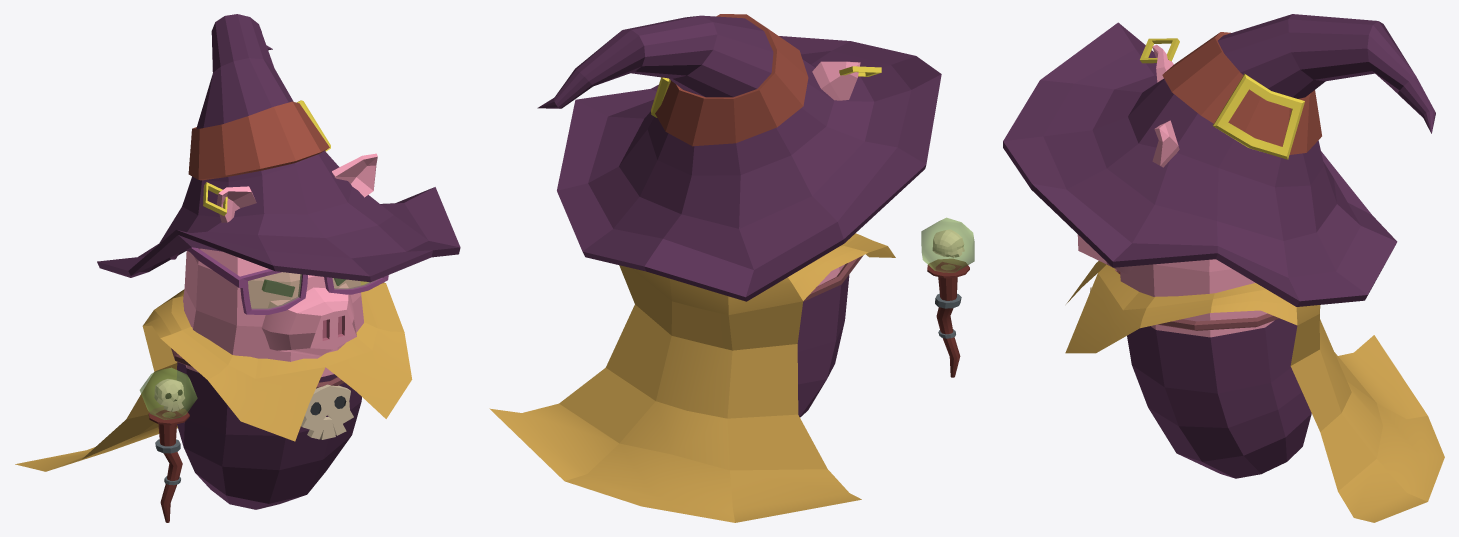
The model's file is korlineBean.fbx.
3 renders of one model, left to right at view 1: azimuth 30°, elevation 25°; view 2: azimuth 150°, elevation 25°; view 3: azimuth 270°, elevation 25°, orthographic. The views are drawn at different scales.
Visible parts, largest first — view 1: hat_mesh, body_mesh, polySurface5_mesh, polySurface10, skull_mesh (×2), frame_mesh, crystal_mesh, wood_mesh, lens_mesh, polySurface6, polySurface7; view 2: hat_mesh, polySurface5_mesh, body_mesh, crystal_mesh, wood_mesh, polySurface7, skull_mesh, necklace_mesh; view 3: hat_mesh, polySurface5_mesh, body_mesh, ring_mesh, necklace_mesh, polySurface6, earring_mesh.
Part boxes in pixels (x1=…): hat_mesh: x1=97, y1=14, x2=460, y2=282; body_mesh: x1=177, y1=248, x2=363, y2=509; polySurface5_mesh: x1=15, y1=281, x2=412, y2=471; polySurface10: x1=261, y1=283, x2=356, y2=355; skull_mesh (×2): x1=154, y1=379, x2=353, y2=439; frame_mesh: x1=170, y1=247, x2=388, y2=314; crystal_mesh: x1=139, y1=367, x2=197, y2=419; wood_mesh: x1=148, y1=406, x2=189, y2=522; lens_mesh: x1=248, y1=272, x2=373, y2=308; polySurface6: x1=332, y1=153, x2=377, y2=197; polySurface7: x1=216, y1=186, x2=256, y2=222; hat_mesh: x1=537, y1=14, x2=941, y2=301; polySurface5_mesh: x1=489, y1=233, x2=895, y2=522; body_mesh: x1=797, y1=264, x2=849, y2=417; crystal_mesh: x1=921, y1=217, x2=974, y2=272; wood_mesh: x1=927, y1=259, x2=969, y2=377; polySurface7: x1=812, y1=61, x2=860, y2=100; skull_mesh: x1=932, y1=229, x2=964, y2=257; necklace_mesh: x1=803, y1=255, x2=863, y2=301; hat_mesh: x1=1003, y1=14, x2=1435, y2=306; polySurface5_mesh: x1=1065, y1=261, x2=1444, y2=522; body_mesh: x1=1120, y1=259, x2=1311, y2=478; ring_mesh: x1=1212, y1=73, x2=1304, y2=159; necklace_mesh: x1=1115, y1=269, x2=1279, y2=330; polySurface6: x1=1152, y1=120, x2=1179, y2=167; earring_mesh: x1=1140, y1=38, x2=1179, y2=63.
Size of the model in its own units: 4.64 by 5.34 by 4.61.
3 materials, 2 textured.
